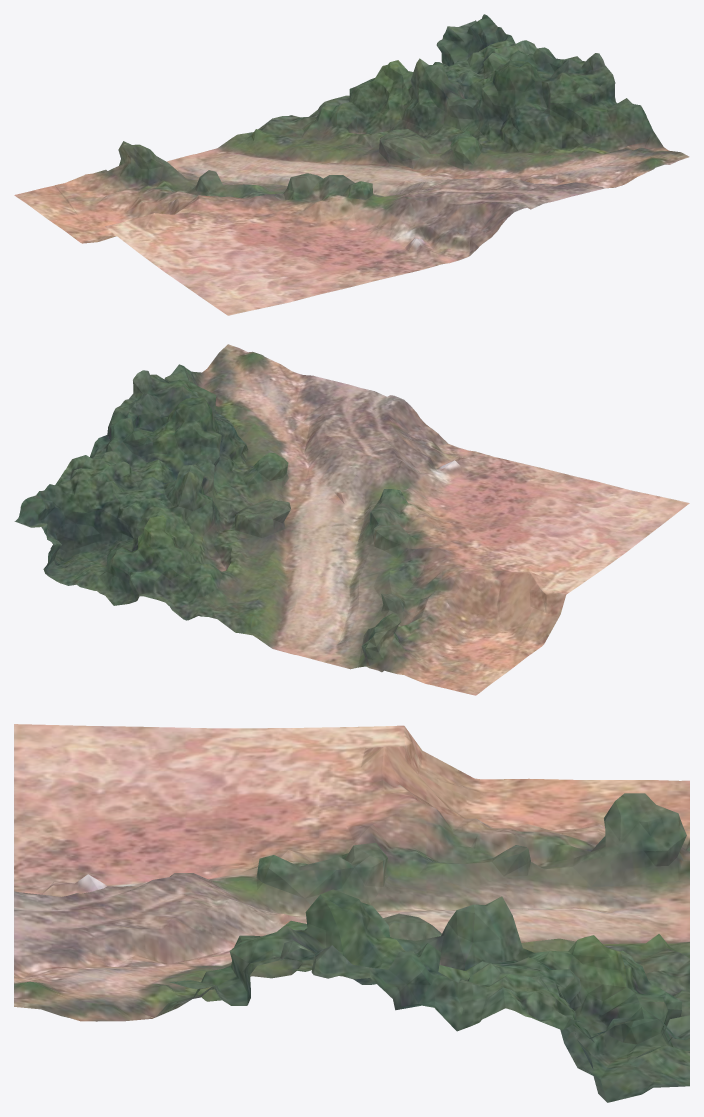
File: Tile__006__007_L20_000030t2.glb
3 views of the same model, one above another, from view 1: azimuth 30°, elevation 25°; view 2: azimuth 150°, elevation 25°; view 3: azimuth 270°, elevation 25° (orthographic). The views are drawn at different scales.
Visible parts, largest first — view 1: root; view 2: root; view 3: root.
Part boxes in pixels (x1,y1,x2,y2): root: (14, 14, 689, 315); root: (14, 344, 689, 695); root: (14, 724, 689, 1102).
Size of the model in its own units: 31.45 by 8.17 by 25.25.
Materials: 3 (3 with a texture image).
